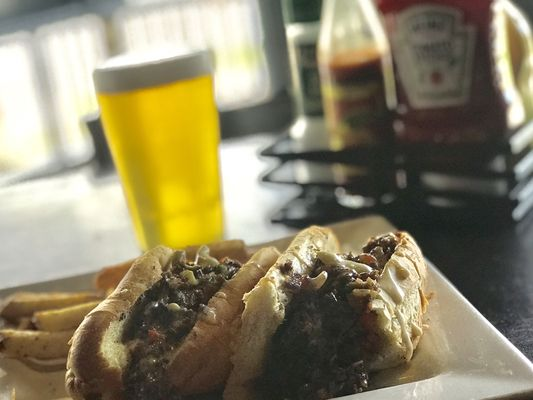pizza: (91, 41, 224, 253)
